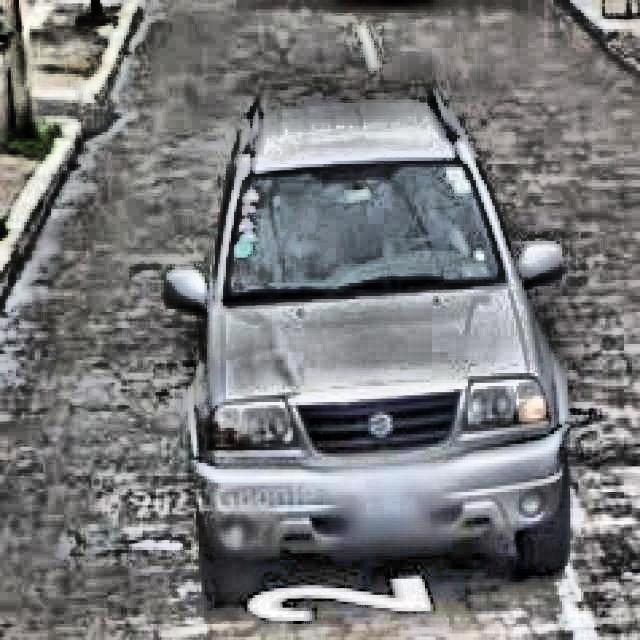carro: (152, 95, 578, 582)
